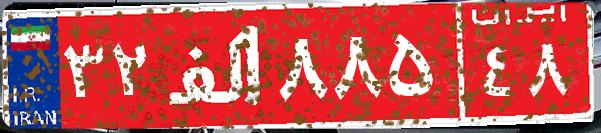2: (110, 28, 158, 105)
3: (57, 26, 110, 107)
4: (475, 38, 525, 113)
5: (385, 28, 445, 110)
8: (273, 28, 330, 110), (330, 28, 385, 110), (525, 38, 570, 115)
الف: (158, 15, 273, 115)
